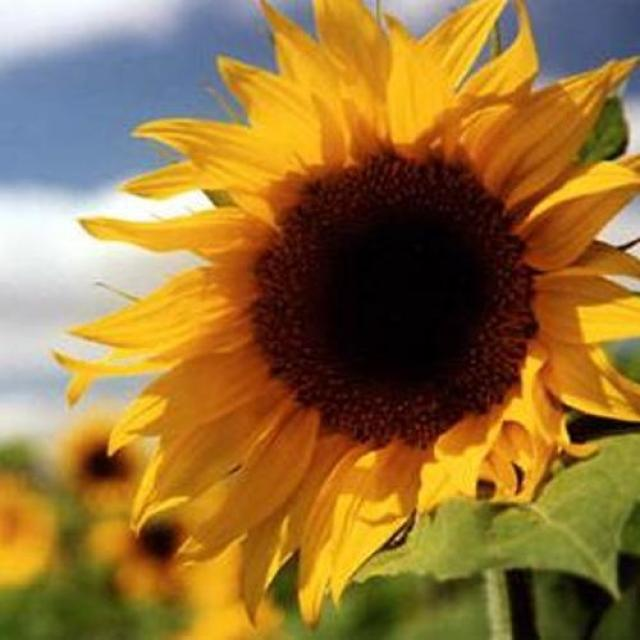sunflower: (53, 1, 640, 635), (88, 494, 224, 618), (58, 400, 155, 512), (0, 464, 63, 607)
